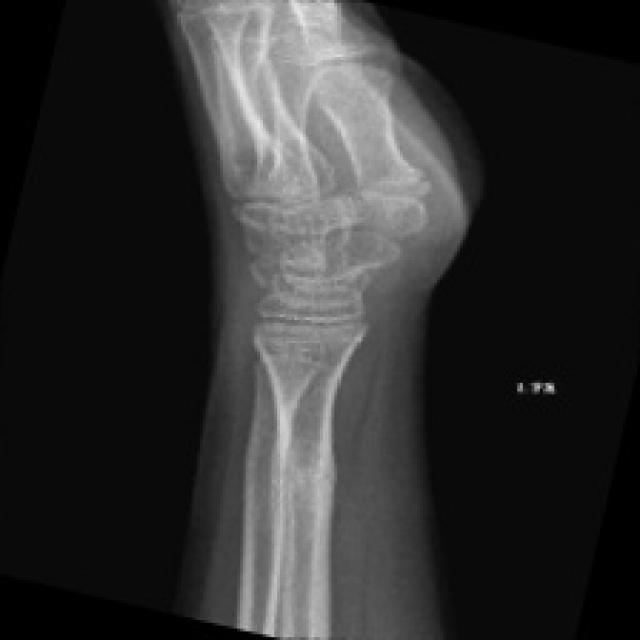fracture: (266, 428, 359, 536)
